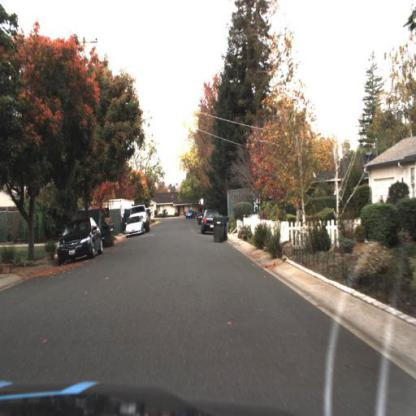car: (52, 211, 105, 273), (55, 216, 106, 265), (199, 207, 225, 234), (124, 214, 145, 242), (131, 203, 148, 221), (187, 210, 196, 219)
